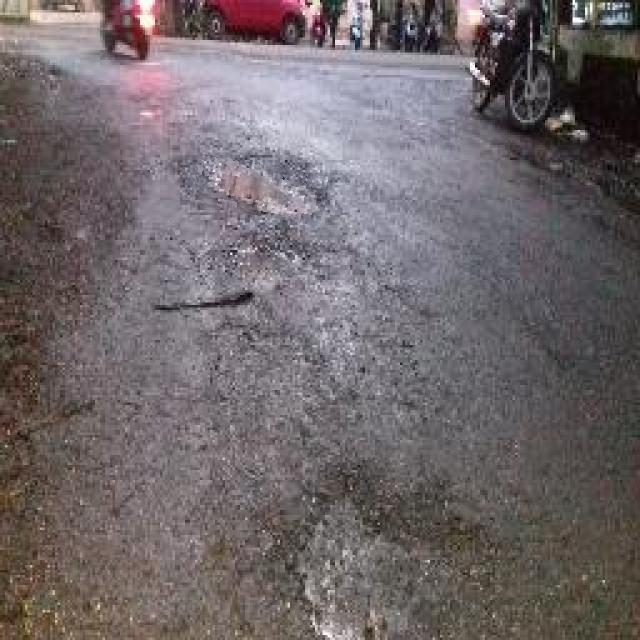puddle: (192, 160, 328, 222)
